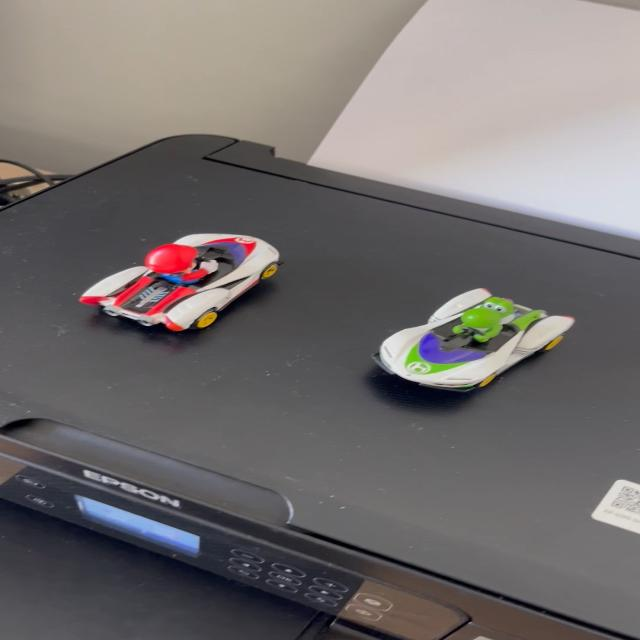mario: (62, 231, 298, 340)
yoshi: (357, 283, 582, 407)
